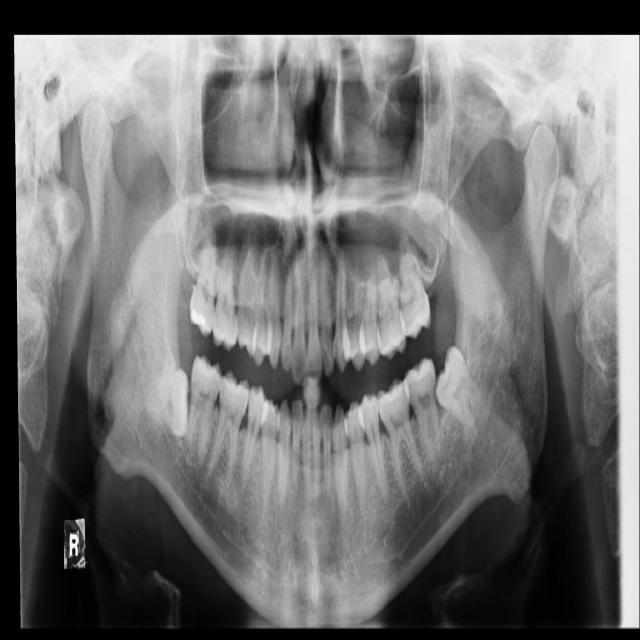52: (188, 285, 216, 337)
73: (552, 590, 556, 604)
BioHorizons Implant: (396, 230, 432, 337)
Biomet 3i Implant: (417, 342, 495, 437)
Blue Sky Bio Implant: (402, 357, 442, 465)
Caries: (189, 226, 217, 337)
Implant: (185, 352, 224, 465)
Keystone Dental Implant: (147, 367, 191, 436)
